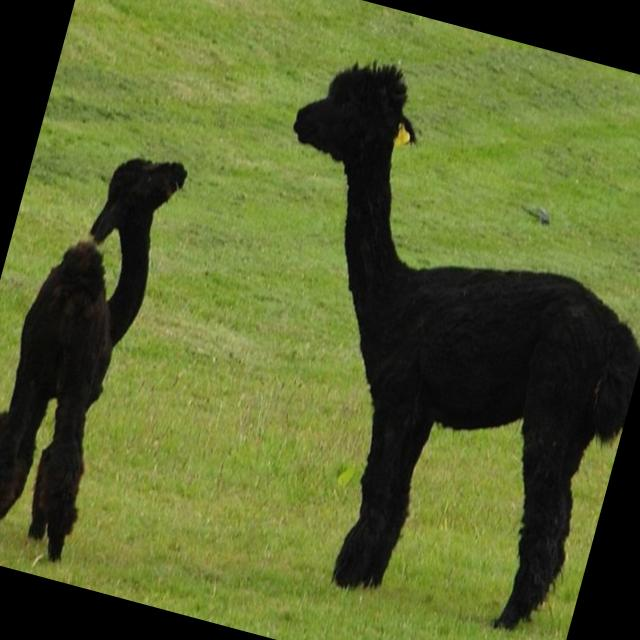alpaca: (183, 41, 640, 640), (0, 134, 188, 572)
